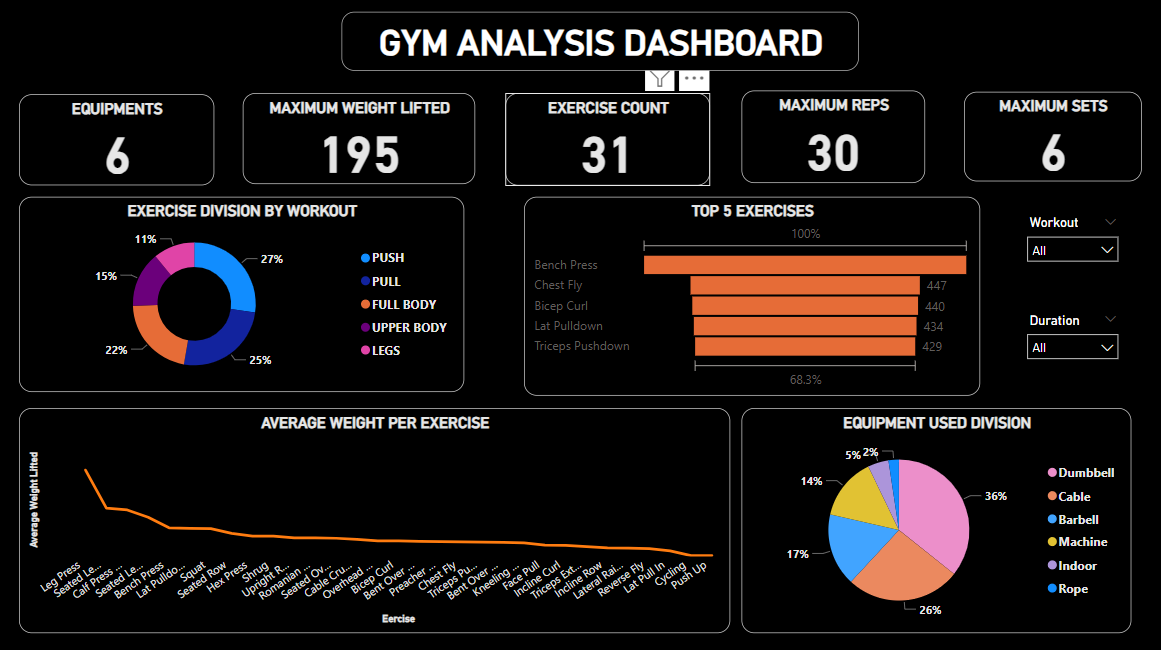

What the dashboard file says about the page in this screenshot:
{"tool":"powerbi","page":{"name":"Gym dash","canvas":[1280,720],"ordinal":0},"visuals":[{"type":"pieChart","title":"EQUIPMENT USED DIVISION","fields":{"Category":["strong.Equipment Used"],"Y":["Count(strong.Exercise Name)"]},"box":[815.1,450.1,428.1,247],"z":0},{"type":"lineChart","title":"AVERAGE WEIGHT PER EXERCISE","fields":{"Category":["strong.Exercise Name"],"Y":["Avg(strong.Weight)"]},"box":[22,450.1,780.8,247],"z":1000},{"type":"donutChart","title":"EXERCISE DIVISION BY WORKOUT ","fields":{"Category":["strong.Workout Name"],"Y":["Count(strong.Exercise Name)"]},"box":[22,218.6,488.5,214.1],"z":2000},{"type":"card","title":"EXERCISE COUNT","fields":{"Values":["Count(strong.Exercise Name)"]},"box":[555.7,104.3,225,101.5],"z":3000},{"type":"card","title":"EQUIPMENTS ","fields":{"Values":["Count(strong.Equipment Used)"]},"box":[22,105.7,214.1,100.2],"z":4000},{"type":"card","title":"MAXIMUM SETS","fields":{"Values":["Max(strong.Set Order)"]},"box":[1059.4,103.3,194.9,98.8],"z":5000},{"type":"card","title":"MAXIMUM REPS","fields":{"Values":["Max(strong.Reps)"]},"box":[815.1,101.9,201.7,101.5],"z":6000},{"type":"card","title":"MAXIMUM WEIGHT LIFTED","fields":{"Values":["Max(strong.Weight)"]},"box":[267.6,104.3,255.2,100.2],"z":7000},{"type":"slicer","fields":{"Values":["strong.Duration (groups)"]},"box":[1118.4,340.7,120.8,75.5],"z":8000},{"type":"funnel","title":"TOP 5 EXERCISES","fields":{"Category":["strong.Exercise Name"],"Y":["CountNonNull(strong.Exercise Name)"]},"box":[576.3,218.6,500.9,218.2],"z":9000},{"type":"slicer","fields":{"Values":["strong.Workout Name"]},"box":[1118.4,233.6,120.8,75.5],"z":10000},{"type":"textbox","box":[376,15.1,568.1,64.5],"z":10001}]}

Visuals, with their boxes in screenshot pixels (x1, y1, x2, y2), scaled from the page's 1280x720 canvas onto the 1161x650 screenshot:
"EQUIPMENT USED DIVISION" pieChart: x1=739, y1=406, x2=1128, y2=629
"AVERAGE WEIGHT PER EXERCISE" lineChart: x1=20, y1=406, x2=728, y2=629
"EXERCISE DIVISION BY WORKOUT " donutChart: x1=20, y1=197, x2=463, y2=391
"EXERCISE COUNT" card: x1=504, y1=94, x2=708, y2=186
"EQUIPMENTS " card: x1=20, y1=95, x2=214, y2=186
"MAXIMUM SETS" card: x1=961, y1=93, x2=1138, y2=182
"MAXIMUM REPS" card: x1=739, y1=92, x2=922, y2=184
"MAXIMUM WEIGHT LIFTED" card: x1=243, y1=94, x2=474, y2=185
slicer - strong.Duration (groups): x1=1014, y1=308, x2=1124, y2=376
"TOP 5 EXERCISES" funnel: x1=523, y1=197, x2=977, y2=394
slicer - strong.Workout Name: x1=1014, y1=211, x2=1124, y2=279
textbox: x1=341, y1=14, x2=856, y2=72
